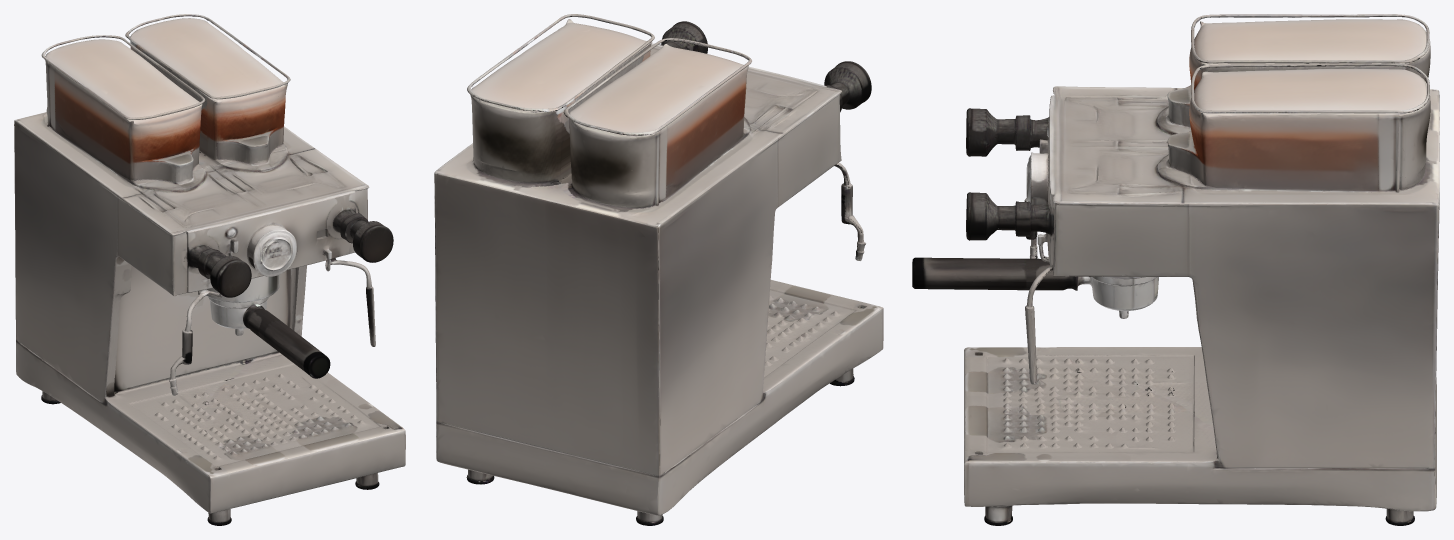
Rendered from espresso-machine.glb.
The picture shows the model from 3 angles, left to right: view 1: azimuth 30°, elevation 25°; view 2: azimuth 150°, elevation 25°; view 3: azimuth 270°, elevation 25°; orthographic projection. The views are drawn at different scales.
Visible parts, largest first — view 1: model; view 2: model; view 3: model.
Boxes of the visible parts, <box> form: model: <box>14,14,405,525</box>; model: <box>434,14,883,525</box>; model: <box>912,14,1439,525</box>.
Bounding box in the file's own units: 1.05 × 1.65 × 1.9.
1 material, 1 textured.
